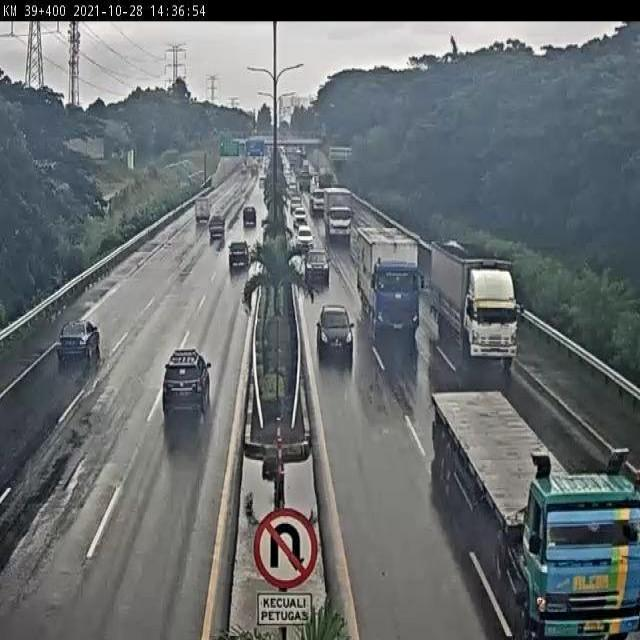big truck: (455, 410, 635, 630), (356, 241, 422, 343), (459, 264, 505, 363), (331, 188, 350, 239)
car: (159, 357, 207, 440), (52, 324, 97, 368), (321, 306, 350, 362), (305, 249, 328, 287)
